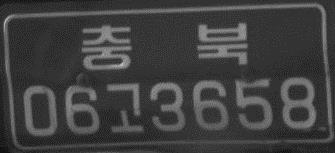0: (19, 82, 59, 140)
3: (148, 79, 185, 133)
5: (232, 75, 277, 134)
6: (189, 79, 231, 133), (63, 82, 102, 137)
8: (276, 75, 322, 133)
고: (102, 80, 146, 137)
충북_D: (77, 18, 250, 73)
